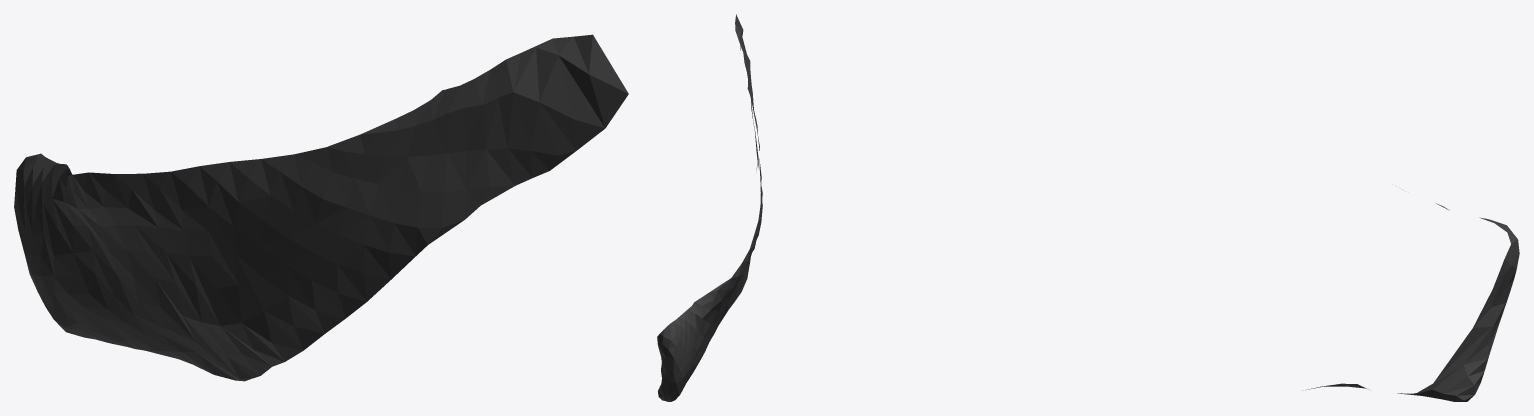
Rendered from ligament_medial_collateral_e.glb.
3 renders of one model, left to right at view 1: azimuth 30°, elevation 25°; view 2: azimuth 150°, elevation 25°; view 3: azimuth 270°, elevation 25°, orthographic. The views are drawn at different scales.
Parts seen in each view (by area): view 1: ligament_medial_collateral_e; view 2: ligament_medial_collateral_e; view 3: ligament_medial_collateral_e.
Part boxes in pixels (x1,y1,x2,y2): ligament_medial_collateral_e: (14,34,628,381); ligament_medial_collateral_e: (657,14,762,401); ligament_medial_collateral_e: (1303,203,1519,401).
Bounding box in the file's own units: 0.00148 × 0.00253 × 0.00353.
1 material, 1 textured.
